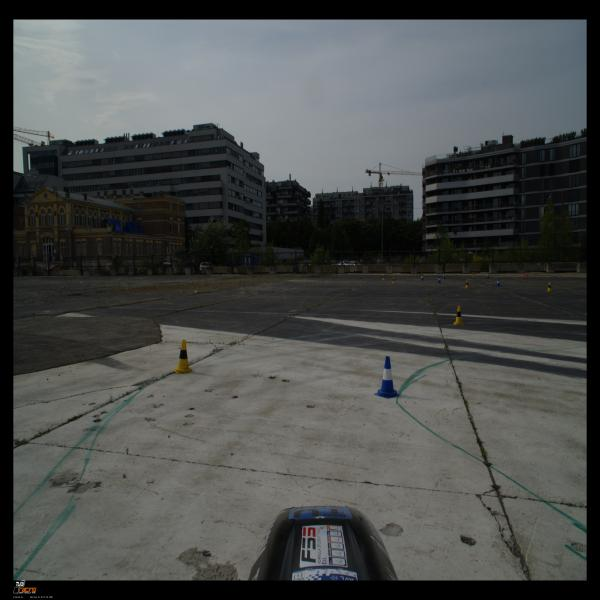blue_cone: (374, 356, 401, 399), (496, 278, 500, 286), (437, 276, 441, 283), (421, 274, 424, 280), (442, 273, 445, 279), (487, 273, 490, 278)
orange_cone: (525, 271, 528, 277), (522, 272, 524, 278)
yellow_cone: (173, 339, 193, 374), (454, 306, 464, 326), (546, 282, 552, 292), (464, 280, 470, 288), (392, 276, 396, 284), (382, 274, 385, 281), (420, 272, 423, 278), (472, 272, 475, 277)
